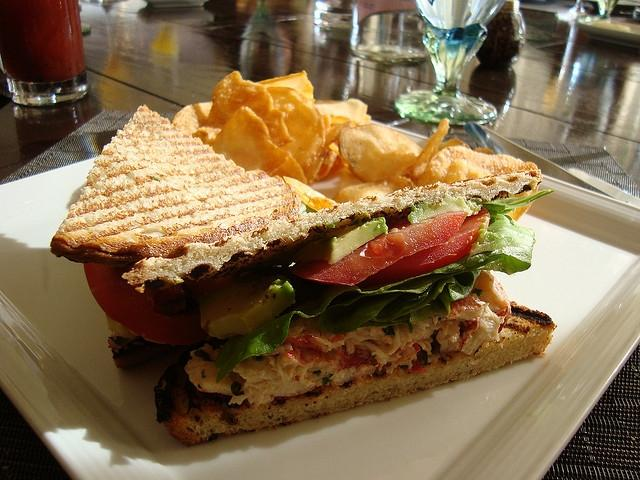avocado: (200, 273, 296, 340), (286, 217, 388, 265), (408, 196, 482, 224)
lettuce: (214, 189, 557, 382)
tomato: (290, 211, 468, 287), (84, 262, 214, 346), (377, 207, 491, 276)
